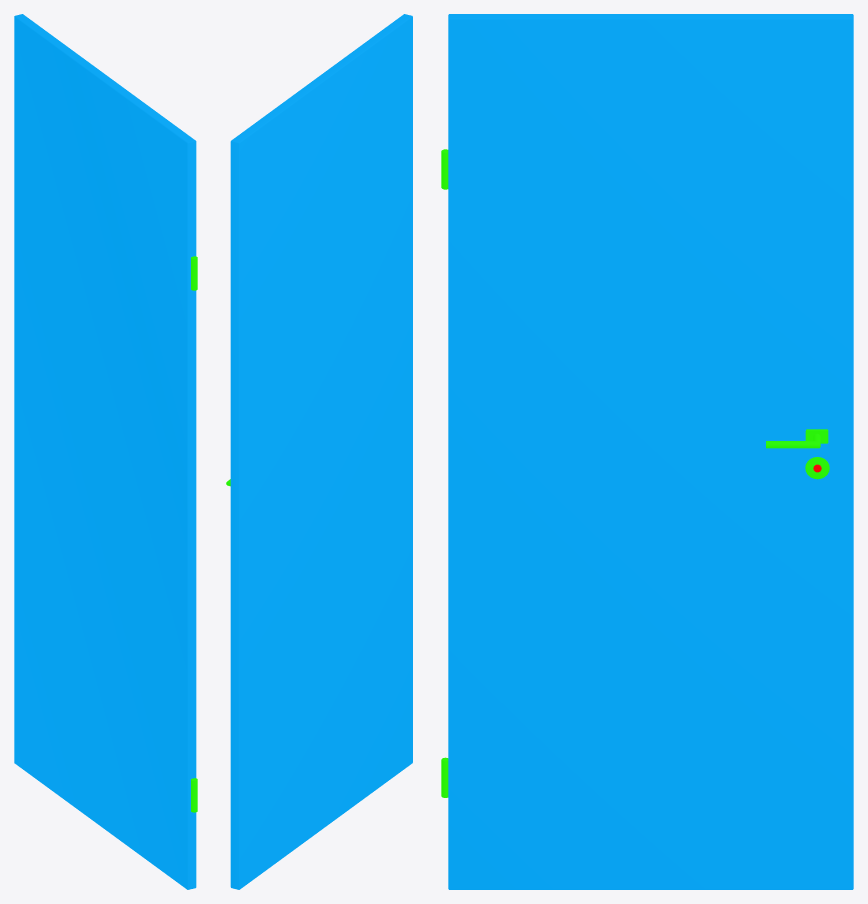
The model's file is Doorbath.fbx.
The picture shows the model from 3 angles, left to right: view 1: azimuth 30°, elevation 25°; view 2: azimuth 150°, elevation 25°; view 3: azimuth 270°, elevation 25°; orthographic projection. The views are drawn at different scales.
Visible parts, largest first — view 1: Door; view 2: Door; view 3: Door.
Boxes of the visible parts, left/top/right/bottom form: Door: left=14, top=14, right=197, bottom=889; Door: left=226, top=14, right=412, bottom=889; Door: left=441, top=14, right=853, bottom=889.
Size of the model in its own units: 9.07 by 235 by 101.
